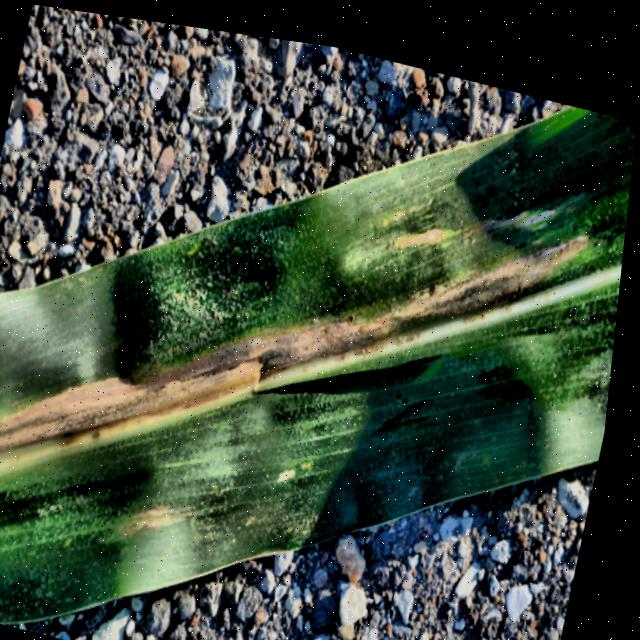blight: (0, 108, 637, 625)
